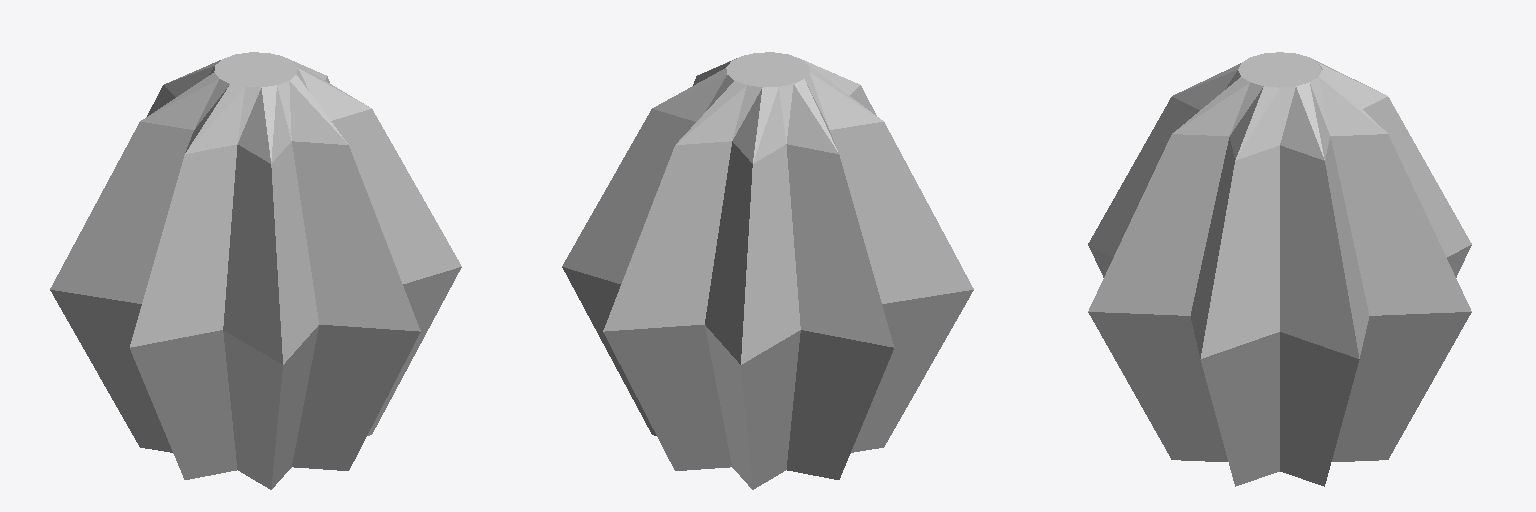
The model's file is Cactus3.obj.
3 views of the same model, side by side, from view 1: azimuth 30°, elevation 25°; view 2: azimuth 150°, elevation 25°; view 3: azimuth 270°, elevation 25° (orthographic).
Visible parts, largest first — view 1: Cactus_2; view 2: Cactus_2; view 3: Cactus_2.
Part boxes in pixels (x1,y1,x2,y2): Cactus_2: (50,52,461,489); Cactus_2: (562,52,973,489); Cactus_2: (1088,52,1471,486).
Bounding box in the file's own units: 1.54 × 1.65 × 1.54.